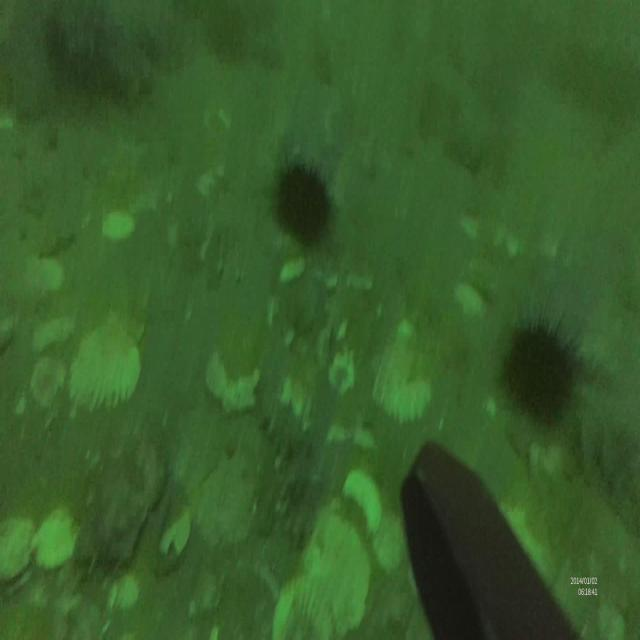echinus: (505, 316, 581, 428), (269, 158, 338, 252)
scallop: (300, 512, 368, 628), (70, 321, 140, 414), (370, 323, 431, 421), (271, 575, 344, 640)
